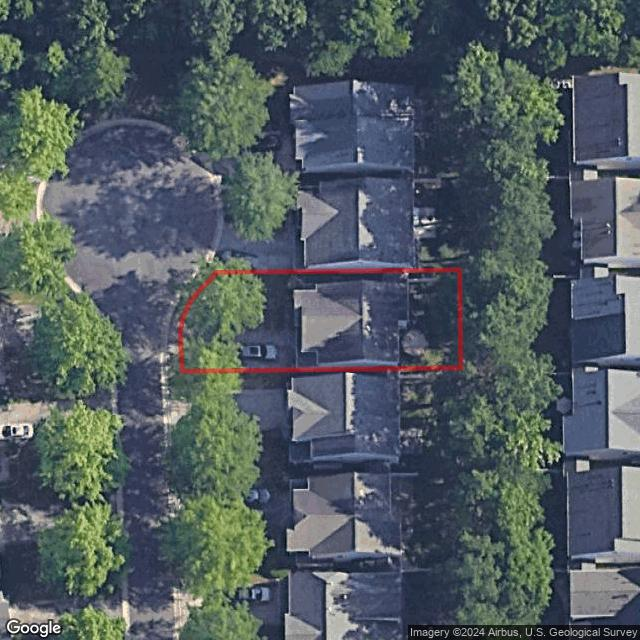Driveway: (180, 321, 301, 371)
Extra-Driveway: (165, 323, 180, 367)
Extra-Lawn: (170, 267, 217, 323), (165, 367, 181, 372)
House: (292, 280, 409, 367)
Lawn: (180, 269, 461, 371)
Other: (401, 330, 429, 357)
Sidewalk: (286, 297, 292, 327)
